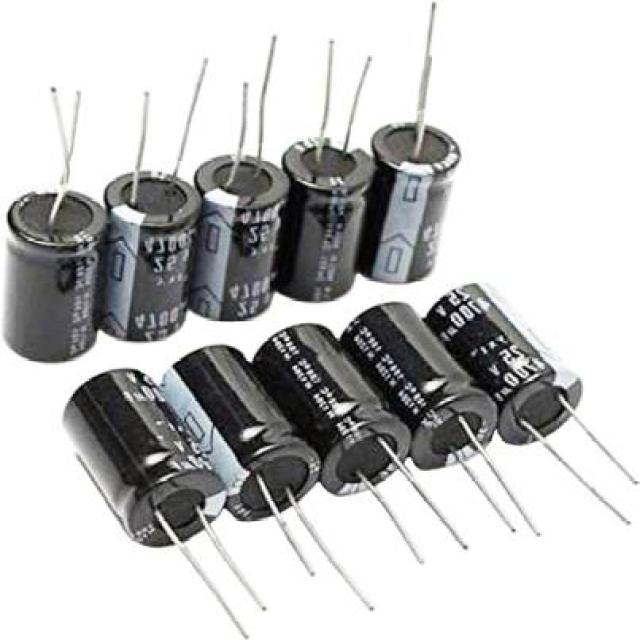Capacitor: (160, 345, 320, 574), (357, 2, 461, 282), (65, 369, 225, 546), (190, 36, 289, 319), (4, 88, 106, 361), (253, 325, 410, 494), (341, 304, 498, 469), (275, 40, 374, 301), (424, 285, 581, 444), (101, 92, 201, 341)
